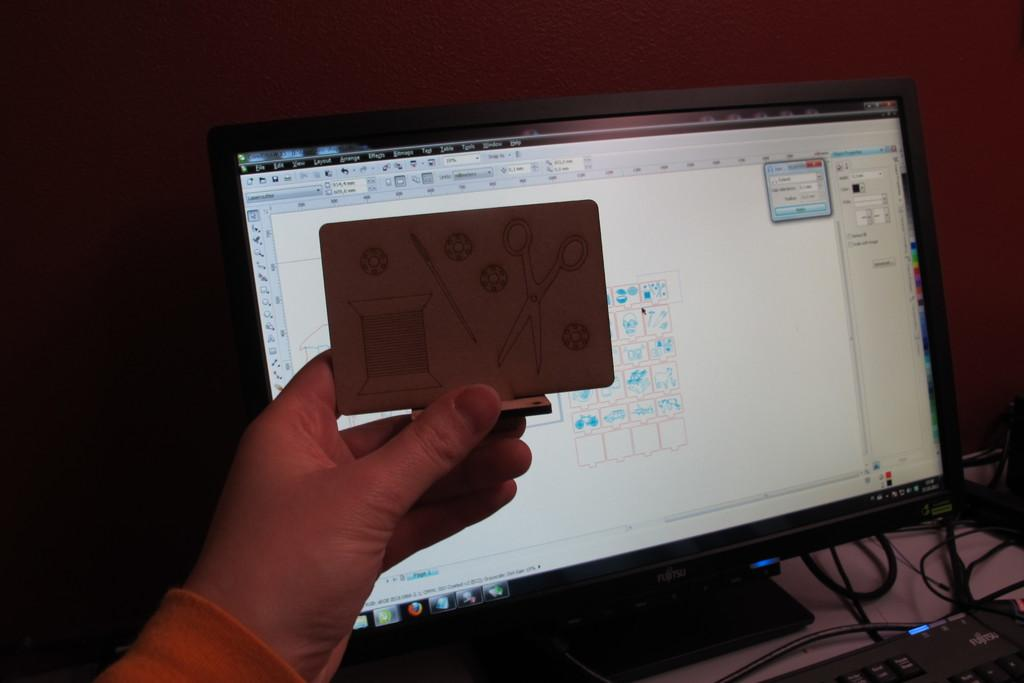Computer-monitor: (234, 76, 967, 618)
